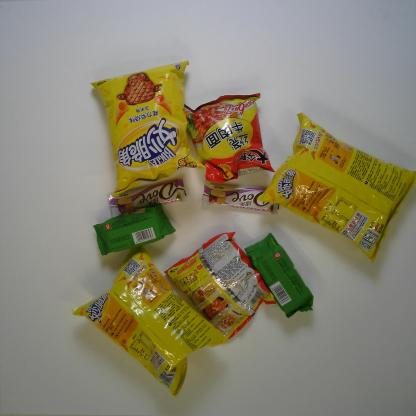Chocolate: (107, 178, 188, 219), (201, 180, 280, 216)
Dessert: (244, 232, 315, 320), (92, 203, 177, 256)
Instant Noodles: (163, 230, 278, 340), (183, 91, 275, 184)
Puffed Food: (255, 110, 416, 264), (71, 245, 229, 400), (89, 59, 208, 197)
